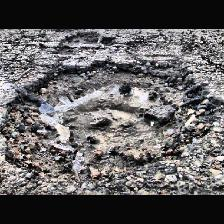pothole: (0, 57, 222, 180), (49, 30, 114, 60)
